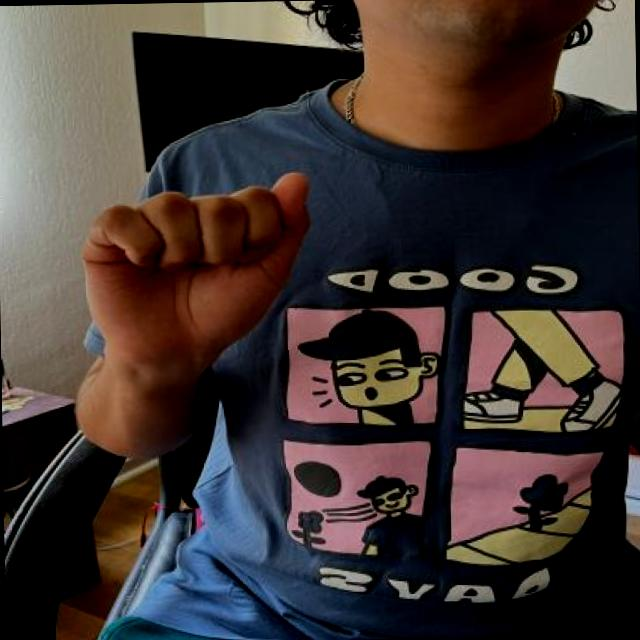A: (84, 164, 318, 353)
